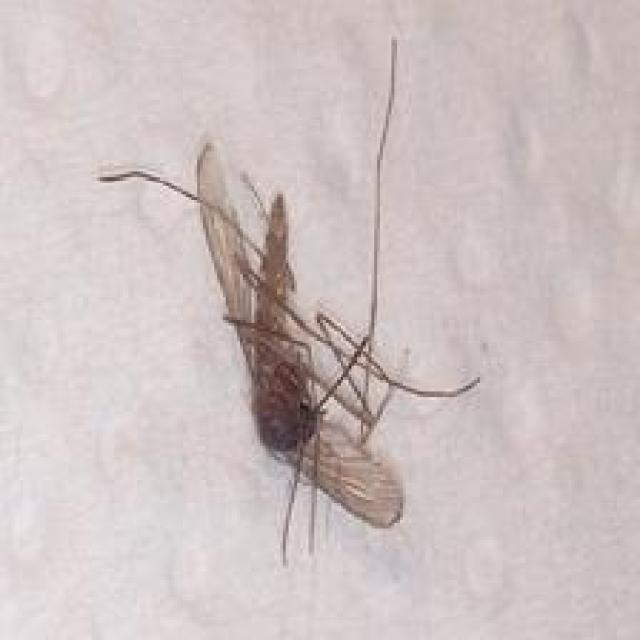Culex: (96, 34, 481, 566)
